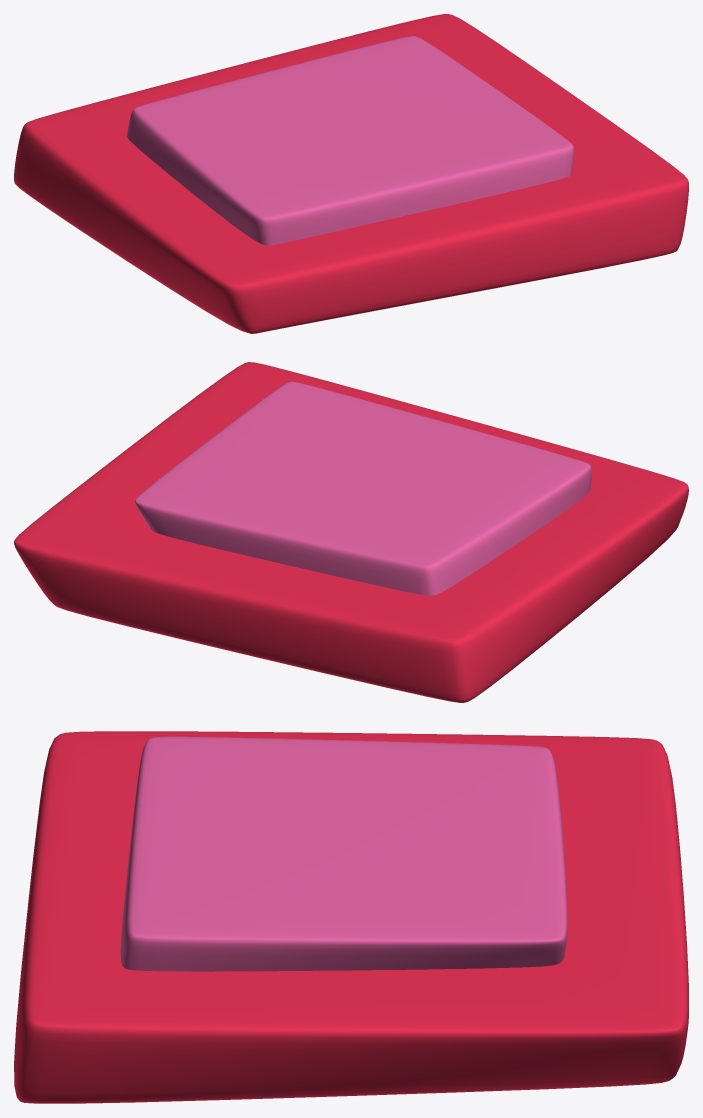
Rendered from button 1.fbx.
3 views of the same model, one above another, from view 1: azimuth 30°, elevation 25°; view 2: azimuth 150°, elevation 25°; view 3: azimuth 270°, elevation 25° (orthographic). The views are drawn at different scales.
Visible parts, largest first — view 1: Cube.174, Cube.175; view 2: Cube.174, Cube.175; view 3: Cube.174, Cube.175.
Part boxes in pixels (x1=…): Cube.174: x1=14, y1=14, x2=688, y2=333; Cube.175: x1=127, y1=36, x2=573, y2=245; Cube.174: x1=14, y1=362, x2=688, y2=702; Cube.175: x1=135, y1=381, x2=591, y2=595; Cube.174: x1=14, y1=731, x2=688, y2=1103; Cube.175: x1=120, y1=736, x2=567, y2=971.
Size of the model in its own units: 648 by 125 by 604.
